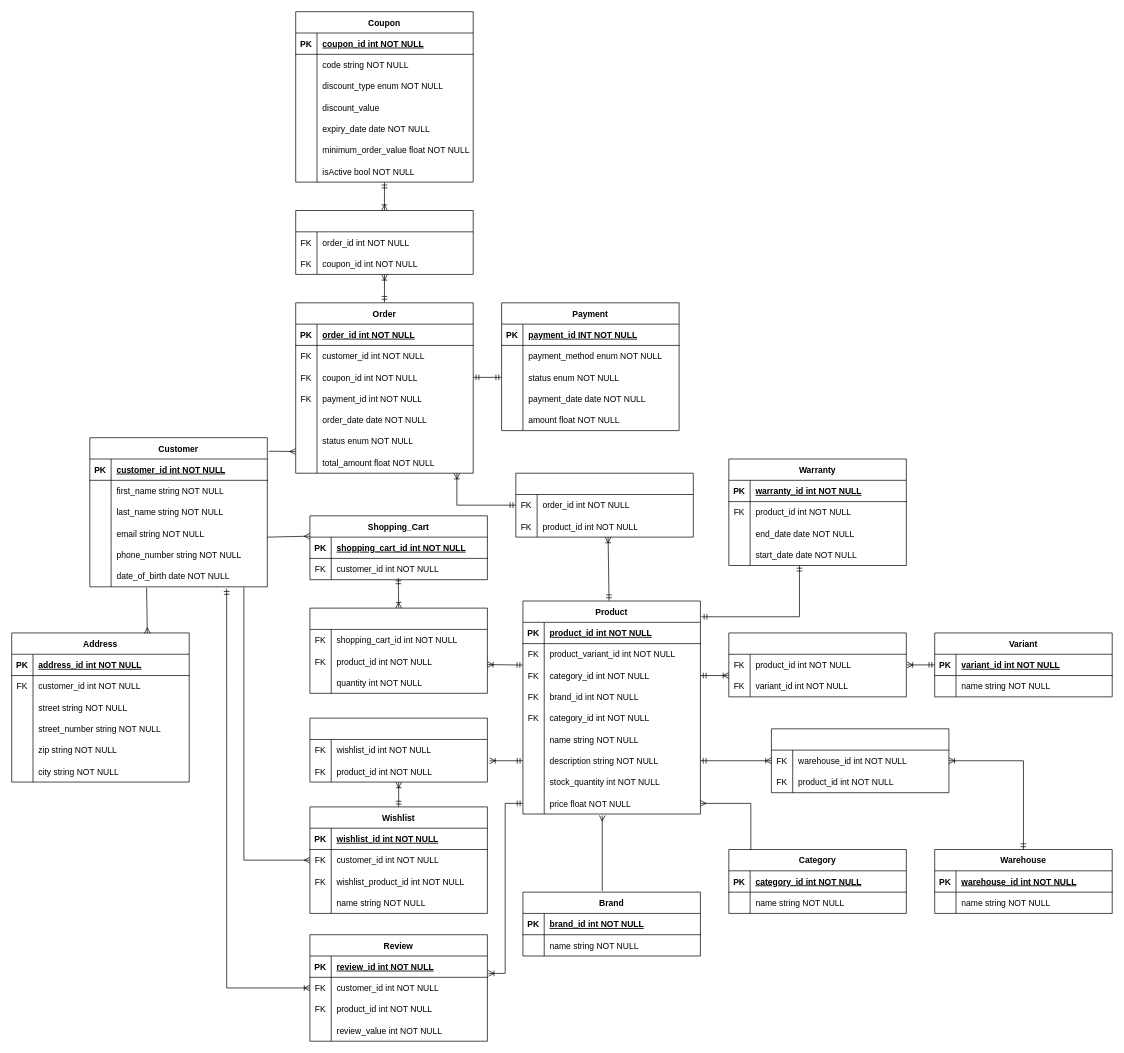
The diagram is 1124 pixels wide and 1053 high, and some of its shapes have lost their labels. The shapes that lost their labels are listed below. From the top down, each one's box as (x1, y1, x2, y2) in pixels, then its label:
(295, 210, 473, 274): Order_Coupon
(515, 473, 693, 537): Order_Product
(309, 607, 487, 693): Shopping_Cart_Item
(728, 632, 906, 697): Product_Variant
(309, 717, 487, 782): Wishlist_Product
(771, 728, 949, 793): Warehouse_Product
